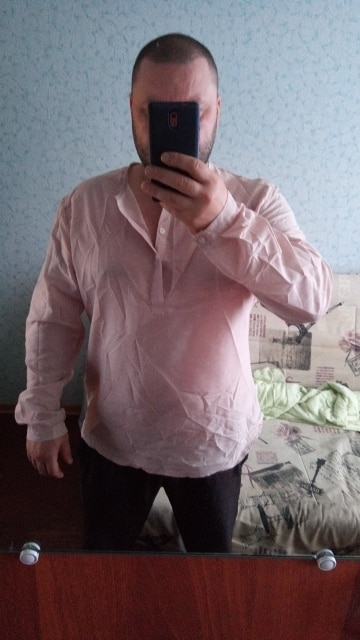shirts: (28, 158, 329, 476)
